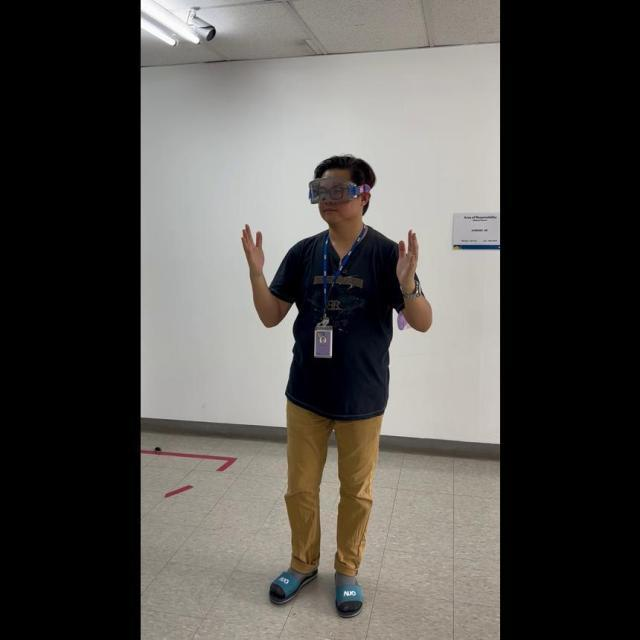bare_hand: (394, 224, 420, 291), (238, 218, 265, 275)
